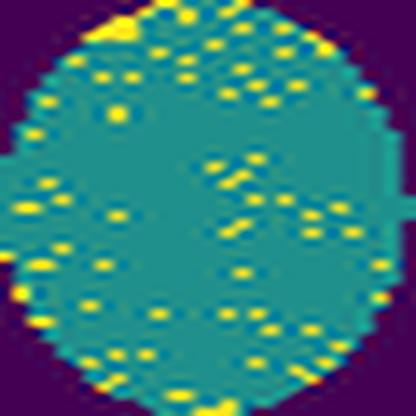Edge-Loc: (79, 0, 198, 49), (181, 394, 239, 416)
